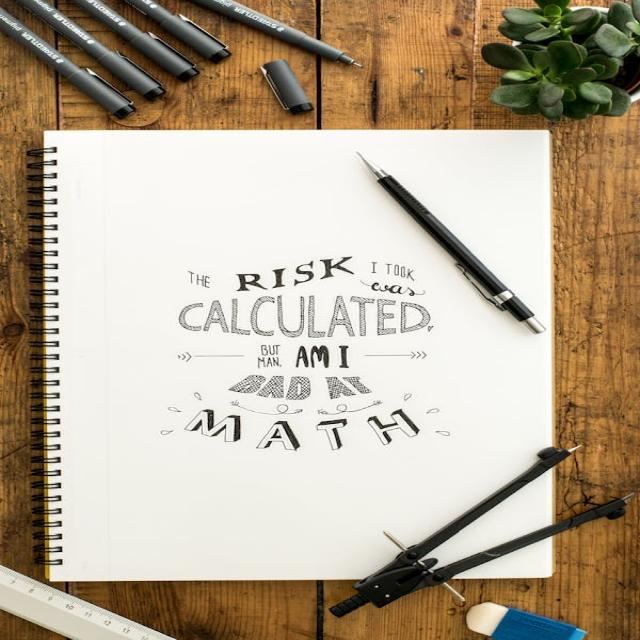pen: (338, 145, 583, 362)
